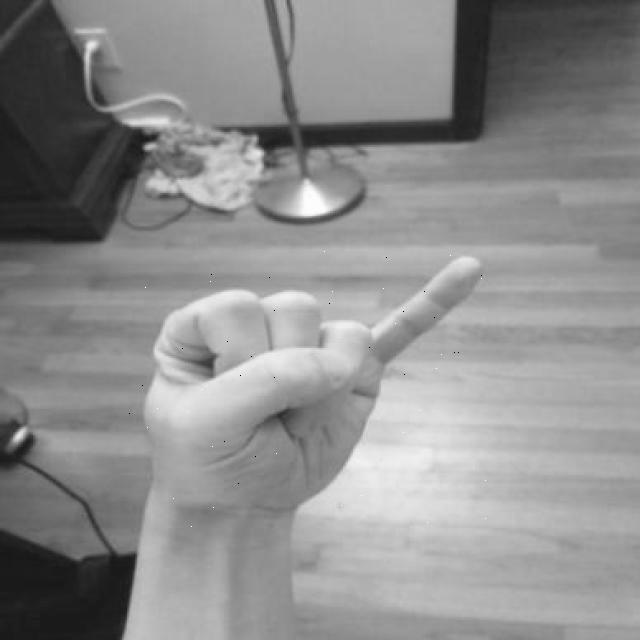I: (129, 243, 492, 531)
